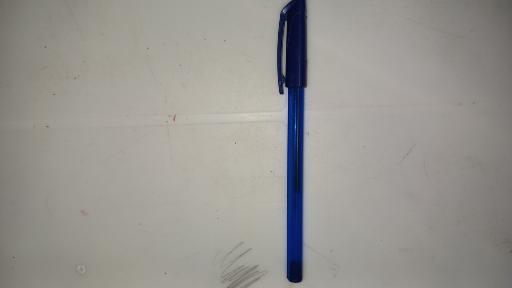pen: (275, 1, 308, 284)
